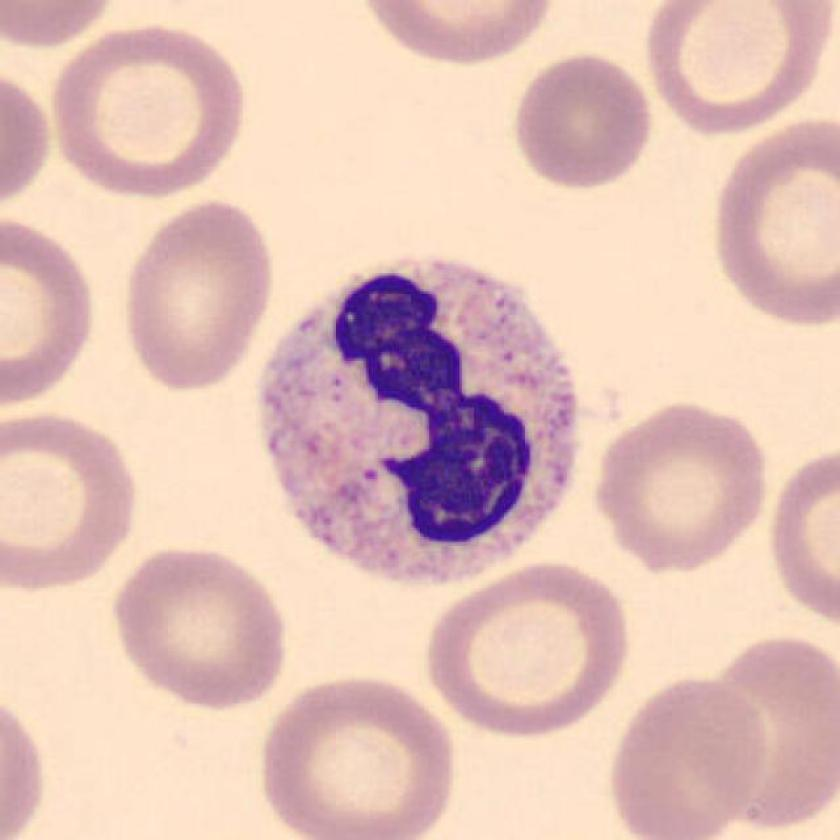neutrophil: (257, 262, 577, 585)
